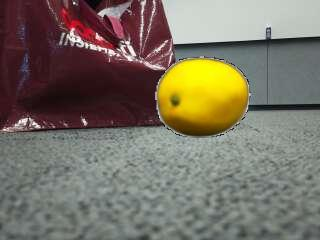lemon: (162, 58, 249, 135)
